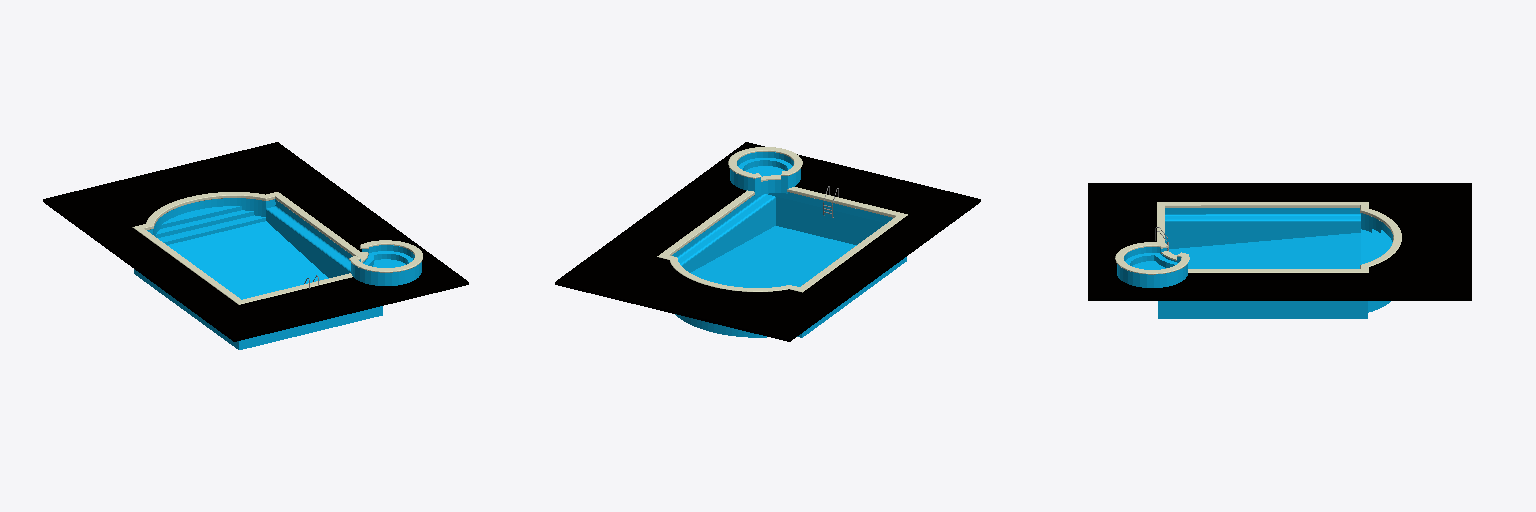
Rendered from romanica.obj.
3 views of the same model, side by side, from view 1: azimuth 30°, elevation 25°; view 2: azimuth 150°, elevation 25°; view 3: azimuth 270°, elevation 25° (orthographic).
Visible parts, largest first — view 1: romanica_suelo_sombra, romanica_sombra, romanica_borde_sombra, escalera_obra_romanica_sombra, jacuzzi_romanica_sombra, jacuzzi_borde_romanica_sombra; view 2: romanica_suelo_sombra, romanica_sombra, romanica_borde_sombra, jacuzzi_romanica_sombra, jacuzzi_borde_romanica_sombra; view 3: romanica_suelo_sombra, romanica_sombra, romanica_borde_sombra, jacuzzi_romanica_sombra, jacuzzi_borde_romanica_sombra, escalera_obra_romanica_sombra.
Boxes of the visible parts, box(x1,y1,x2,y2) form: romanica_suelo_sombra: box(43, 142, 468, 341); romanica_sombra: box(134, 198, 382, 349); romanica_borde_sombra: box(132, 192, 360, 304); escalera_obra_romanica_sombra: box(156, 206, 265, 244); jacuzzi_romanica_sombra: box(351, 245, 421, 285); jacuzzi_borde_romanica_sombra: box(349, 240, 422, 272); romanica_suelo_sombra: box(555, 142, 980, 341); romanica_sombra: box(672, 192, 906, 337); romanica_borde_sombra: box(657, 187, 907, 292); jacuzzi_romanica_sombra: box(730, 152, 800, 195); jacuzzi_borde_romanica_sombra: box(728, 147, 802, 181); romanica_suelo_sombra: box(1088, 183, 1471, 300); romanica_sombra: box(1158, 208, 1392, 318); romanica_borde_sombra: box(1157, 202, 1401, 272); jacuzzi_romanica_sombra: box(1117, 247, 1187, 287); jacuzzi_borde_romanica_sombra: box(1115, 242, 1189, 274); escalera_obra_romanica_sombra: box(1361, 229, 1392, 264).
Bounding box in the file's own units: 669 × 167 × 945.